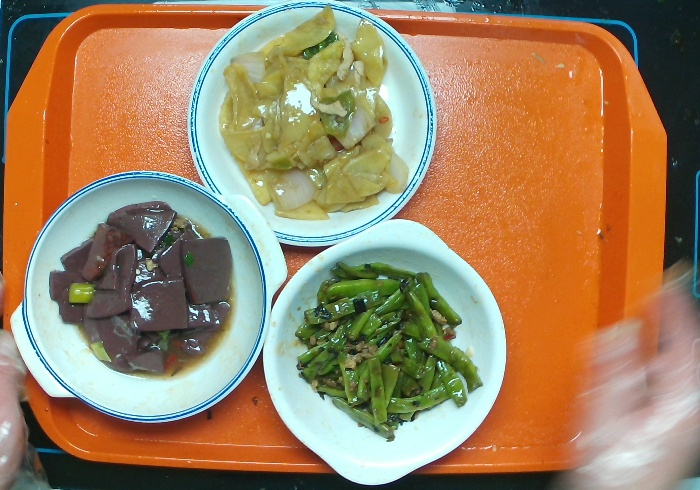HZYJPL-Dai_Er_Bai_Yuan_Wan: (261, 217, 509, 490)
HZYJPL-Lan_Bian_Dai_Er_Wan: (11, 169, 291, 426)
HZYJPL-Lan_Bian_Yuan_Die: (187, 1, 434, 250)
